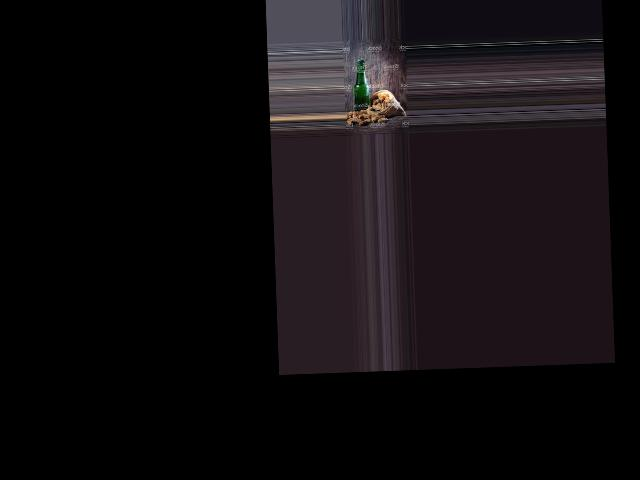beer: (352, 58, 370, 115)
